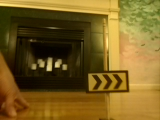right: (85, 71, 128, 91)
